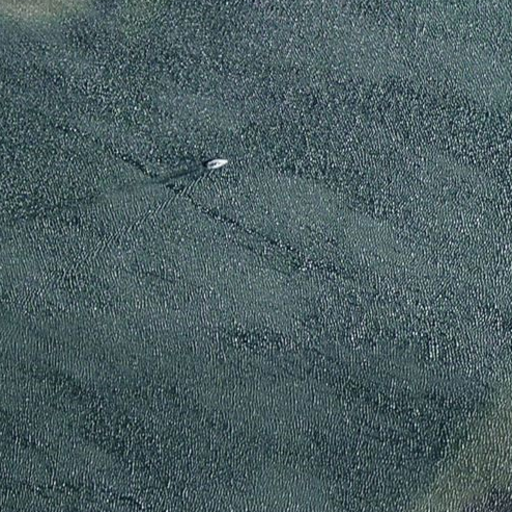ship: (201, 156, 230, 172)
